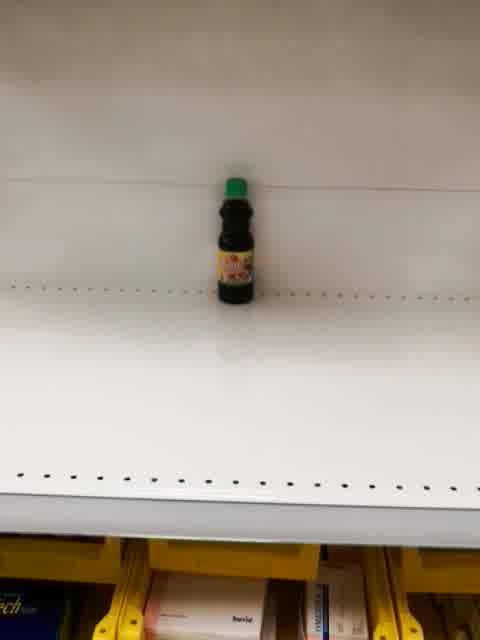cookingoil: (216, 174, 256, 306)
